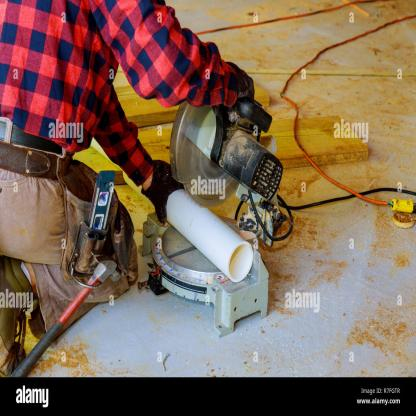PVC: (167, 188, 253, 283)
